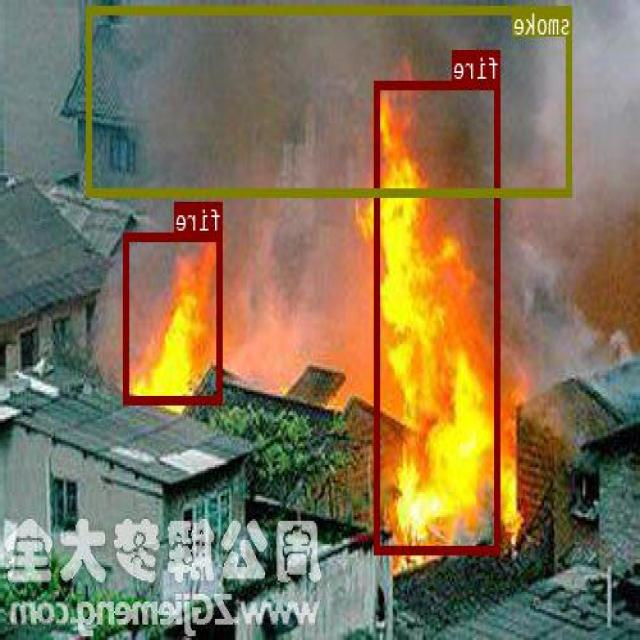fire: (375, 80, 501, 552), (125, 231, 224, 402)
smoke: (88, 6, 572, 194)
